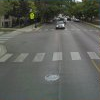crosswalk: (0, 51, 99, 62), (0, 33, 21, 43)
